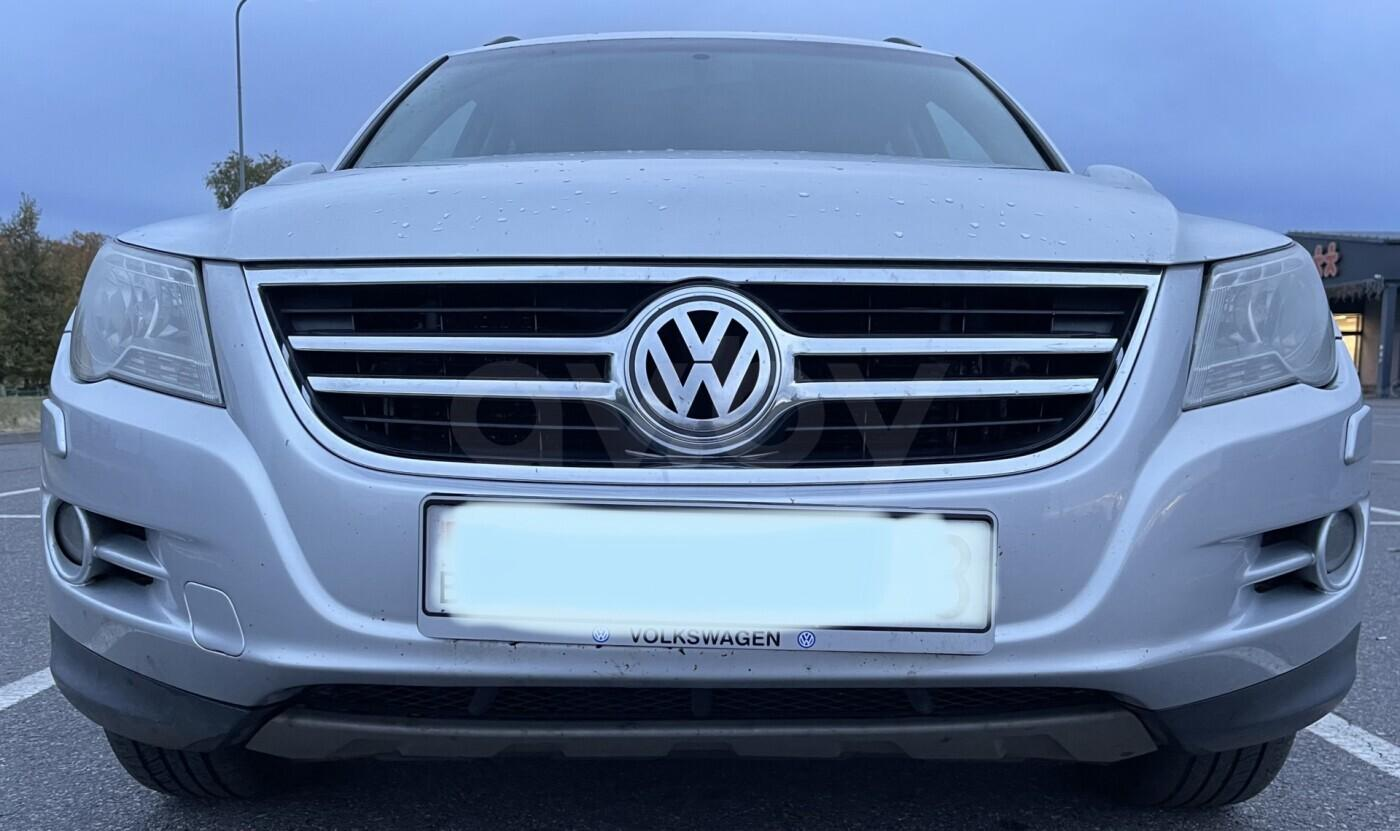Tiguan_2007-2011: (21, 30, 1373, 816)
